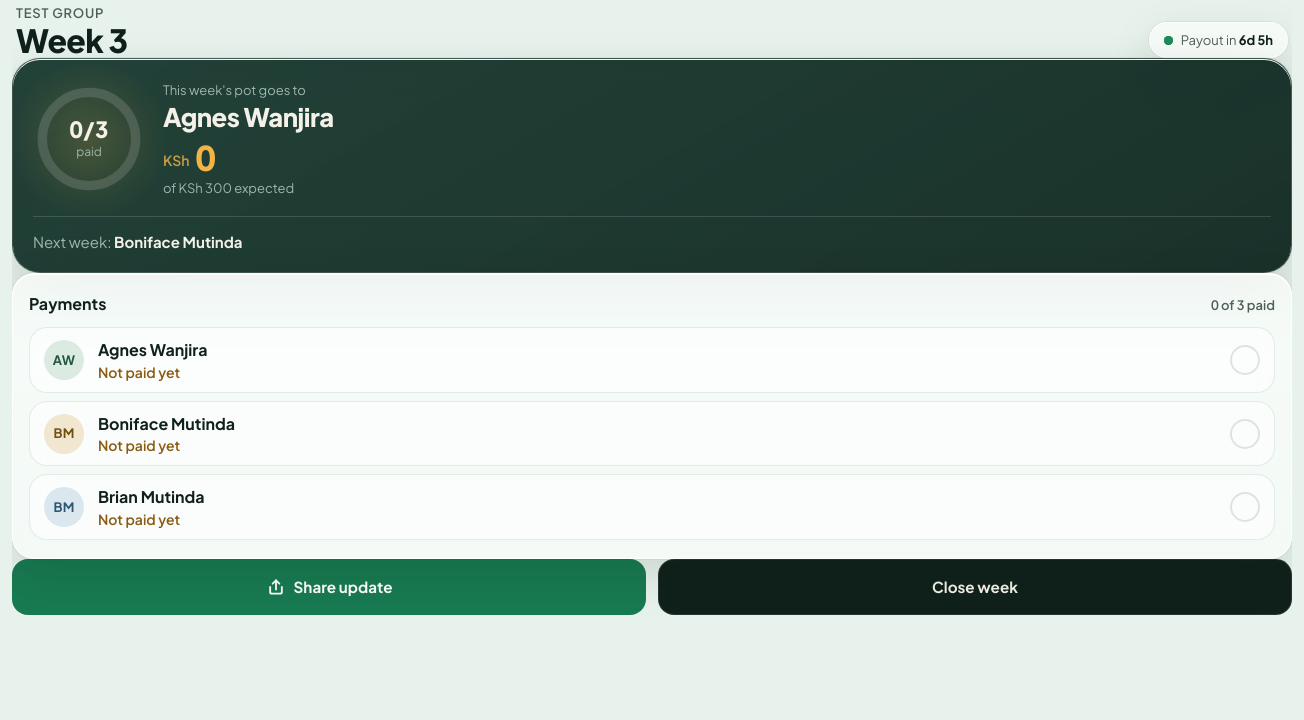
Scenario: RoundLive optimistic updates › rolls everything back and shows a clear toast when the server reports a failure
Click the button with class "toggle" showing "AW Agnes Wanjira Not paid yet" at (64, 360), box [29,328,1275,393]
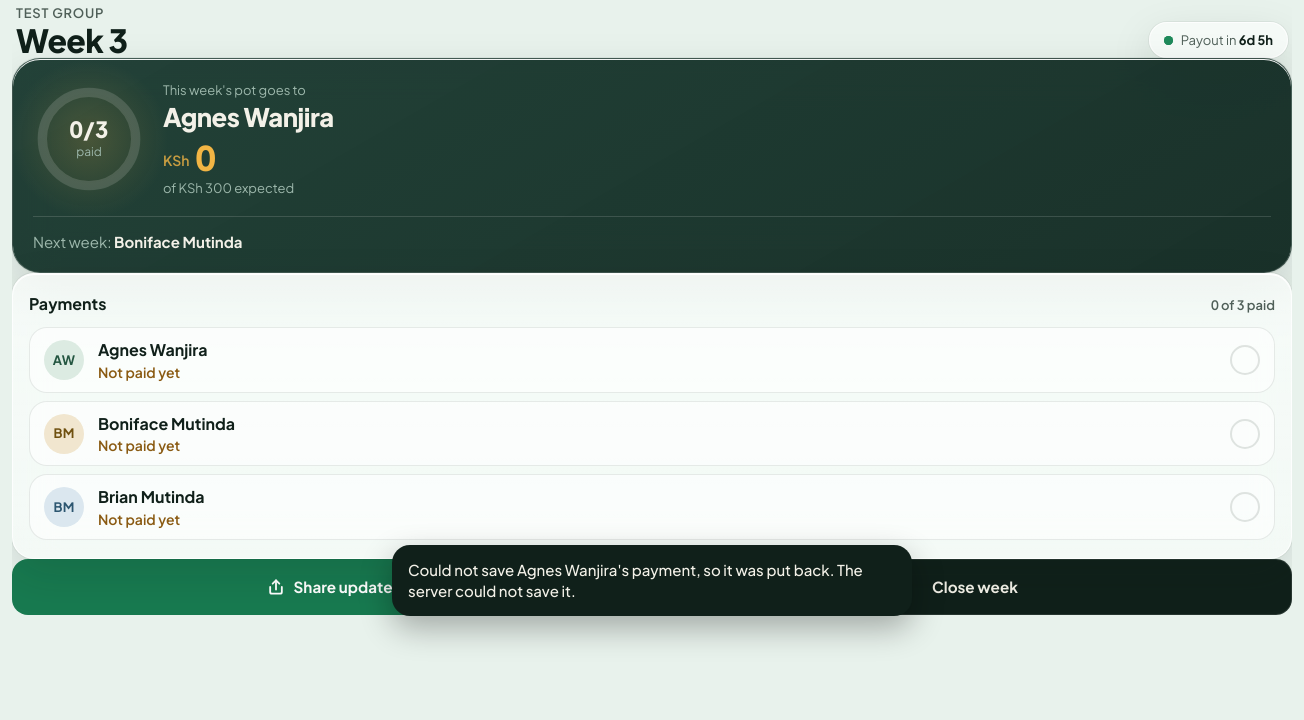
Expected: the text with class "count" reads "0 of 3 paid", [1211,296,1275,315]
Result: the message with class "toast" shows "Could not save Agnes Wanjira's payment" at [392,544,912,616]
Result: the message with class "toast" shows "put back" at [392,544,912,616]
